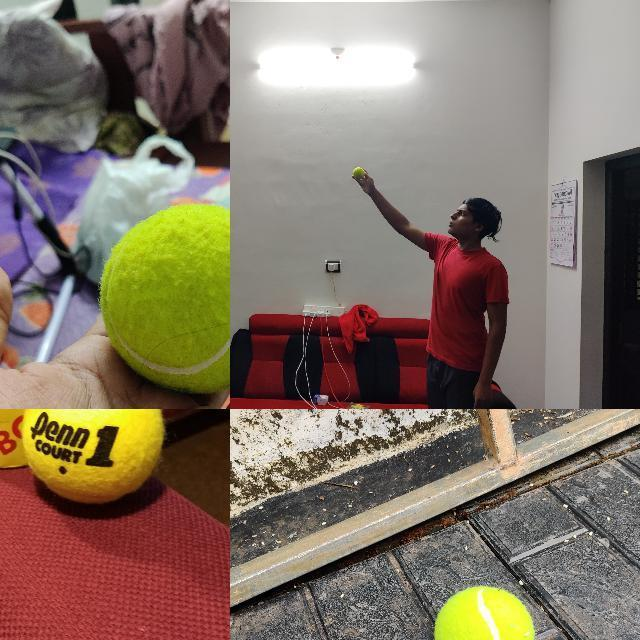tennis-ball: (99, 205, 229, 394), (21, 409, 165, 505), (435, 585, 536, 639), (352, 167, 364, 179)
